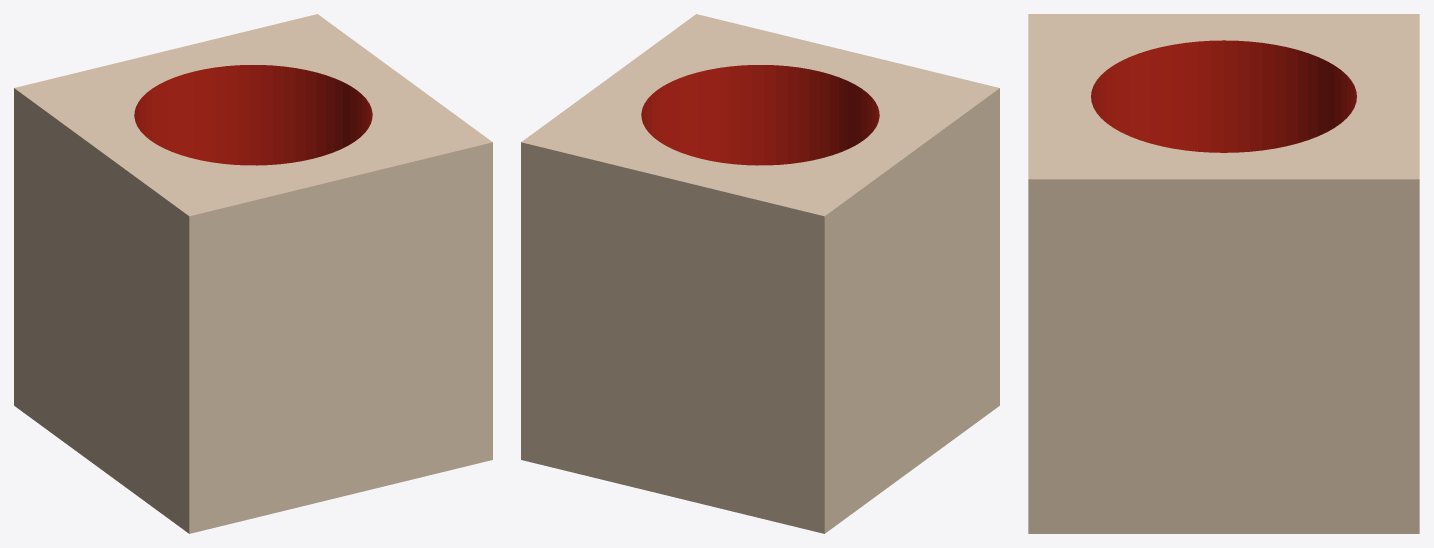
3 renders of one model, left to right at view 1: azimuth 30°, elevation 25°; view 2: azimuth 150°, elevation 25°; view 3: azimuth 270°, elevation 25°, orthographic. The views are drawn at different scales.
Visible parts, largest first — view 1: Cube; view 2: Cube; view 3: Cube.
Boxes of the visible parts, bbox=[...] form: Cube: bbox=[14, 14, 492, 533]; Cube: bbox=[521, 14, 999, 533]; Cube: bbox=[1028, 14, 1419, 533].
Size of the model in its own units: 200 by 200 by 200.
